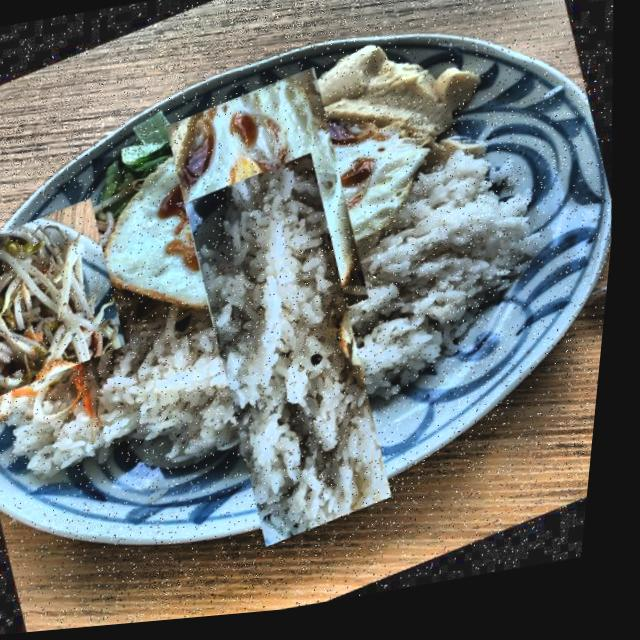Food: (121, 181, 470, 530), (131, 77, 412, 356), (0, 194, 148, 404)
